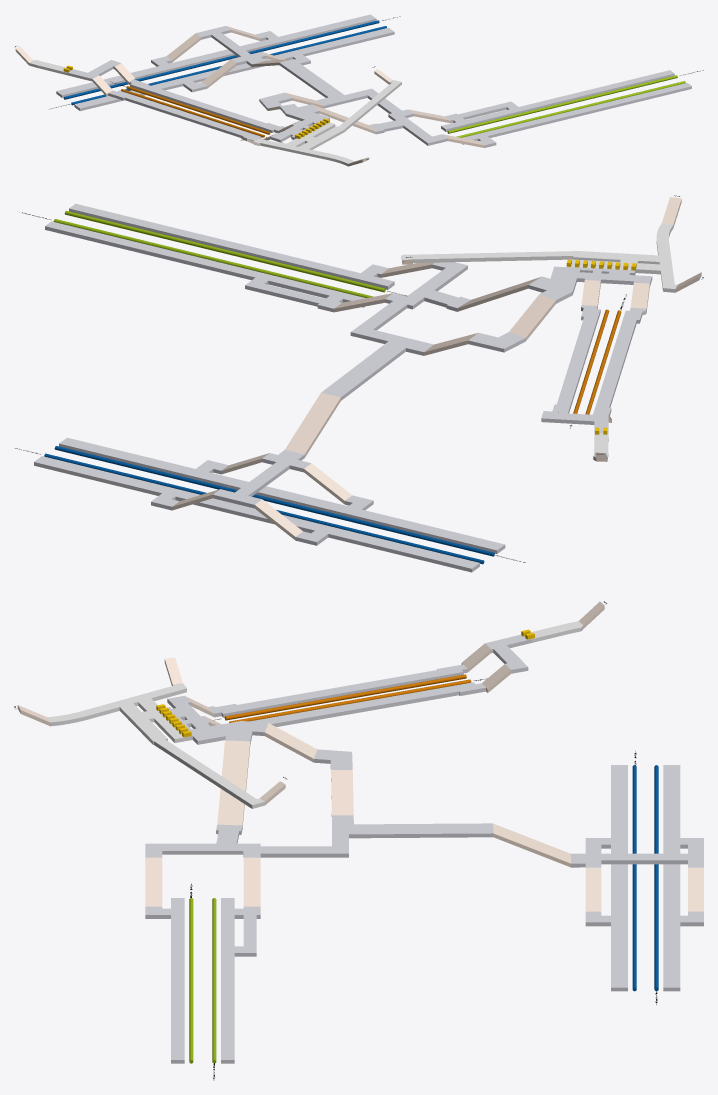
File: alonso_martinez.glb
The picture shows the model from 3 angles, top to bottom: view 1: azimuth 30°, elevation 25°; view 2: azimuth 150°, elevation 25°; view 3: azimuth 270°, elevation 25°; orthographic projection. The views are drawn at different scales.
Visible parts, largest first — view 1: rect9163-8, rect9232, rect9290, rect9161, path9488, rect9163, path1948, path1944, rect9376, path1940, rect9190, path9501 (+5 smaller); view 2: rect9163-8, rect9232, rect9161, path9488, rect9290, path1948, rect9163, path1944, rect9376, rect9190, rect9262, path1940 (+6 smaller); view 3: rect9163-8, rect9232, rect9290, path9488, rect9161, rect9163, path1940, path1948, rect9376, rect9190, rect9270, path1944 (+7 smaller).
Boxes of the visible parts, x1,y1,x2,y2 form: rect9163-8: (56,14,394,111); rect9232: (279,59,447,145); rect9290: (108,79,284,144); rect9161: (441,70,674,131); path9488: (254,80,401,166); rect9163: (462,83,691,147); path1948: (63,20,386,105); path1944: (447,75,685,137); rect9376: (270,104,329,142); path1940: (121,86,270,137); rect9190: (196,26,266,66); path9501: (65,60,120,81); rect9163-8: (34,437,505,572); rect9232: (321,262,470,400); rect9161: (45,221,365,312); path9488: (401,223,677,292); rect9290: (552,305,646,415); path1948: (44,446,494,564); rect9163: (69,203,394,289); path1944: (53,210,385,297); rect9376: (528,266,652,303); rect9190: (213,450,311,508); rect9262: (285,392,340,457); path1940: (573,309,621,414); rect9163-8: (585,765,703,991); rect9232: (145,815,493,857); rect9290: (208,664,485,726); path9488: (47,683,264,808); rect9161: (221,898,260,1063); rect9163: (145,898,184,1063); path1940: (224,674,471,722); path1948: (632,765,658,991); rect9376: (167,695,268,744); rect9190: (570,846,703,867); rect9270: (217,740,250,828); path1944: (189,898,216,1063).
Bounding box in the file's own units: 219 × 31 × 163.
